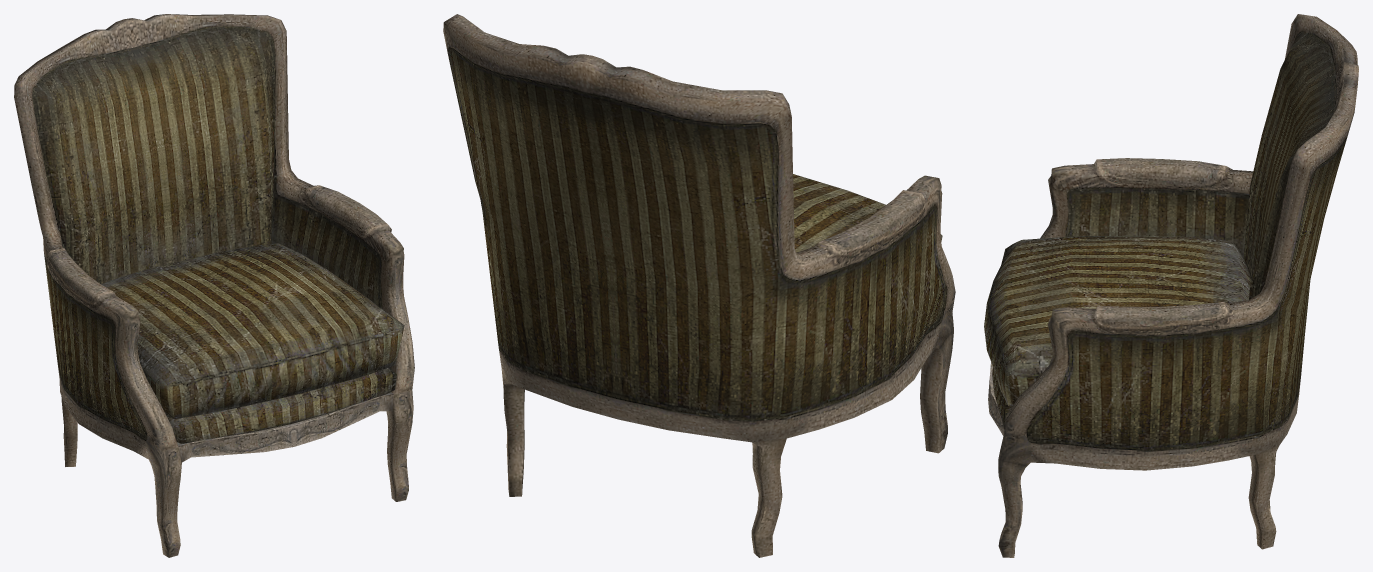
File: Charb.fbx
The picture shows the model from 3 angles, left to right: view 1: azimuth 30°, elevation 25°; view 2: azimuth 150°, elevation 25°; view 3: azimuth 270°, elevation 25°; orthographic projection. The views are drawn at different scales.
Visible parts, largest first — view 1: LODGroup_1_MainMesh_1_SubMesh_1; view 2: LODGroup_1_MainMesh_1_SubMesh_1; view 3: LODGroup_1_MainMesh_1_SubMesh_1.
Boxes of the visible parts, box(x1,y1,x2,y2) form: LODGroup_1_MainMesh_1_SubMesh_1: box(14, 14, 414, 557); LODGroup_1_MainMesh_1_SubMesh_1: box(443, 14, 955, 557); LODGroup_1_MainMesh_1_SubMesh_1: box(984, 14, 1358, 557).
Bounding box in the file's own units: 98.41 × 124 × 98.13.
